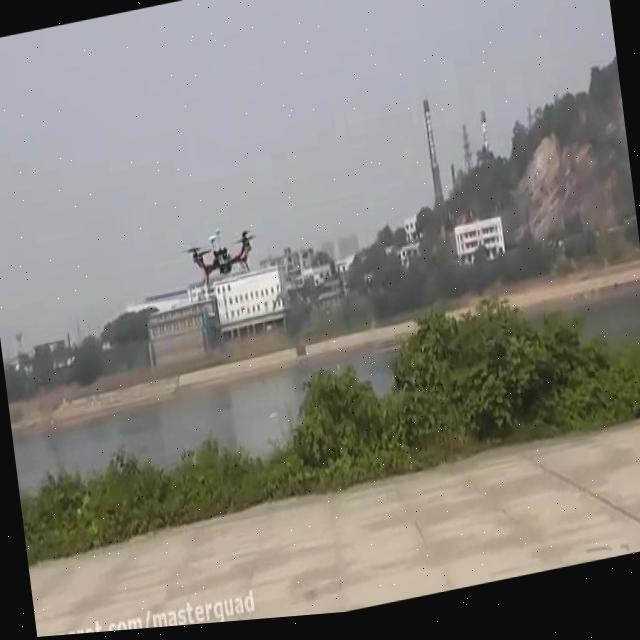drone: (174, 214, 262, 296)
